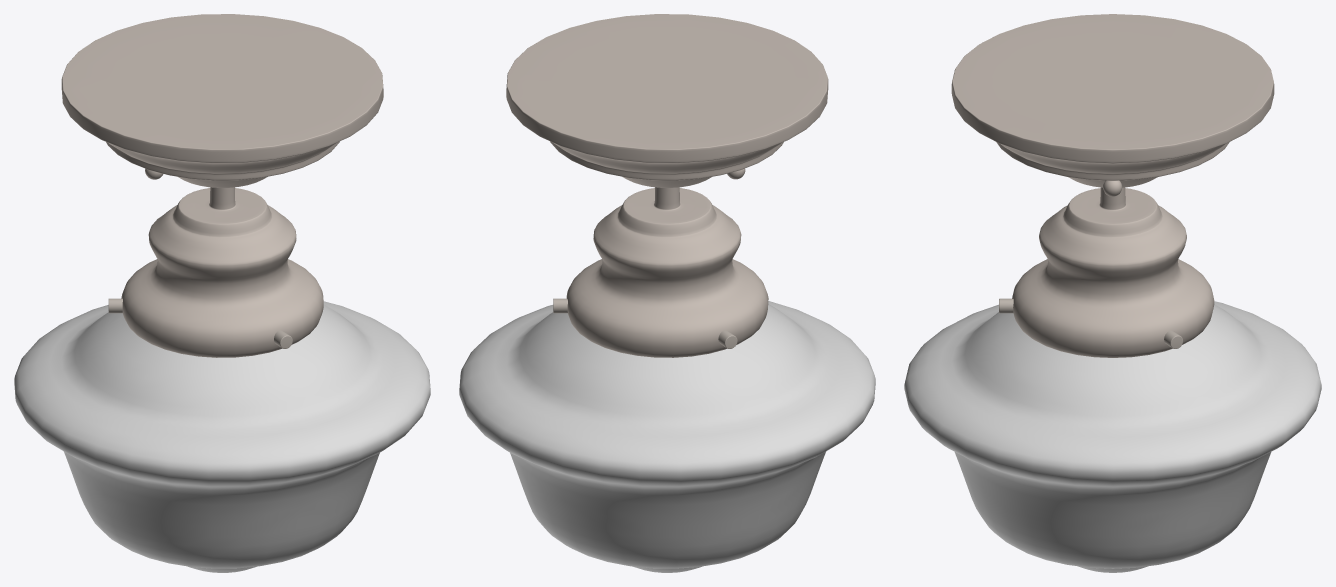
File: abo-B07DBJ7P12.glb
3 renders of one model, left to right at view 1: azimuth 30°, elevation 25°; view 2: azimuth 150°, elevation 25°; view 3: azimuth 270°, elevation 25°, orthographic.
Bounding box in the file's own units: 0.199 × 0.254 × 0.199.
1 material, 1 textured.
